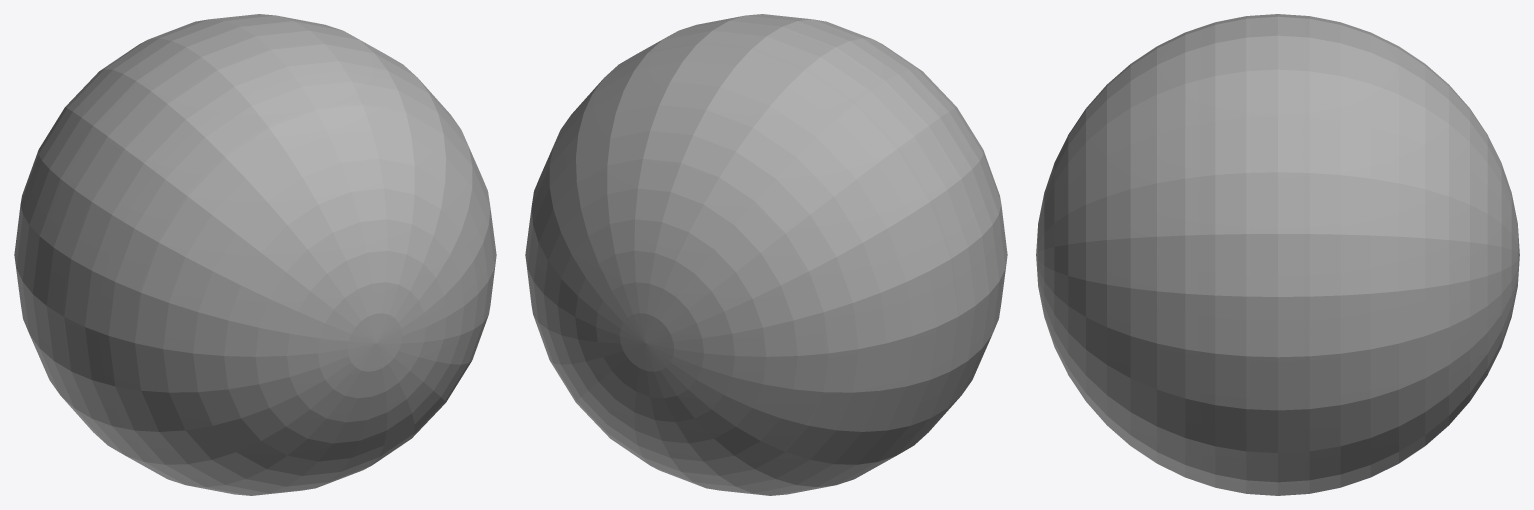
Rendered from Light Gray Sphere.obj.
3 renders of one model, left to right at view 1: azimuth 30°, elevation 25°; view 2: azimuth 150°, elevation 25°; view 3: azimuth 270°, elevation 25°, orthographic.
Parts seen in each view (by area): view 1: Object.1; view 2: Object.1; view 3: Object.1.
Part boxes in pixels (x1,y1,x2,y2): Object.1: (14, 14, 496, 495); Object.1: (525, 14, 1007, 495); Object.1: (1036, 14, 1519, 495).
Size of the model in its own units: 400 by 400 by 400.
1 material, 1 textured.
